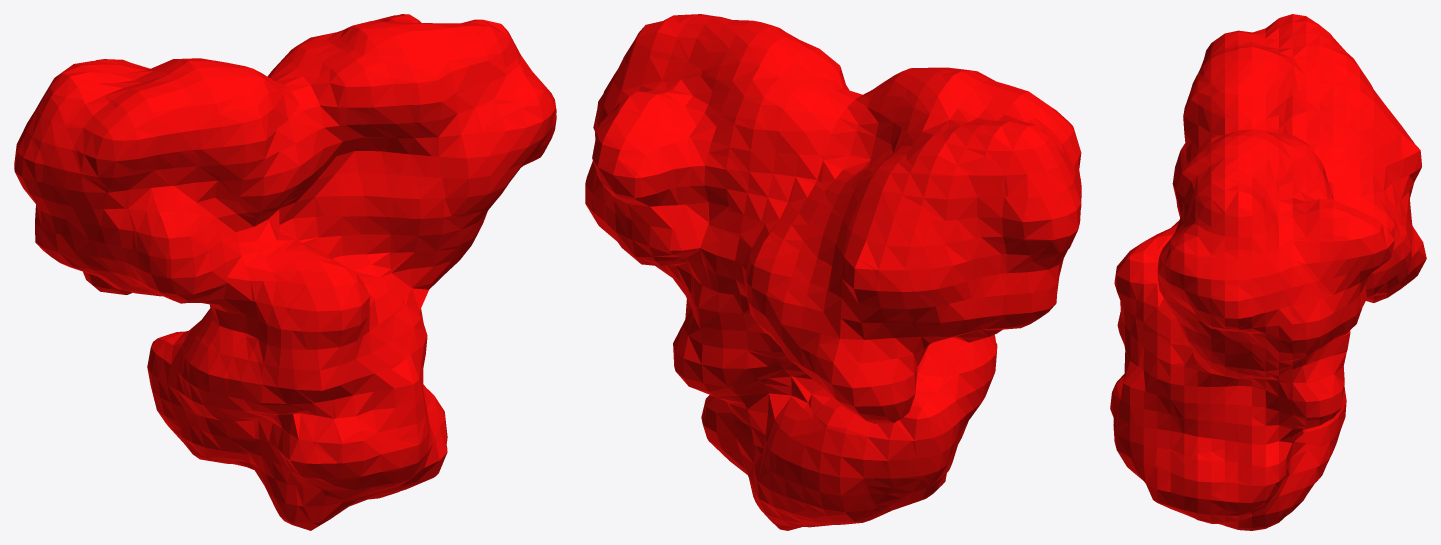
File: def_coarse.dae
The picture shows the model from 3 angles, left to right: view 1: azimuth 30°, elevation 25°; view 2: azimuth 150°, elevation 25°; view 3: azimuth 270°, elevation 25°; orthographic projection. The views are drawn at different scales.
Parts seen in each view (by area): view 1: def; view 2: def; view 3: def.
Part boxes in pixels (bbox=[...]): def: bbox=[14, 14, 556, 530]; def: bbox=[585, 14, 1081, 530]; def: bbox=[1110, 14, 1426, 530].
Bounding box in the file's own units: 83.65 × 76.16 × 52.43.
